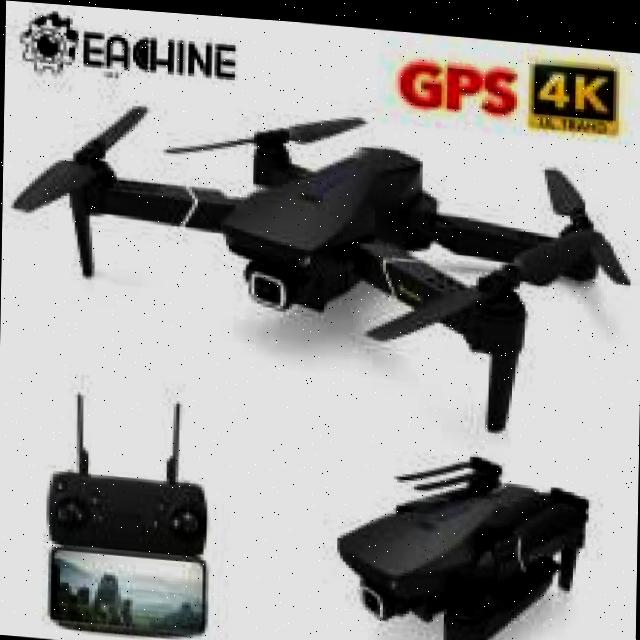drone: (0, 70, 640, 438)
